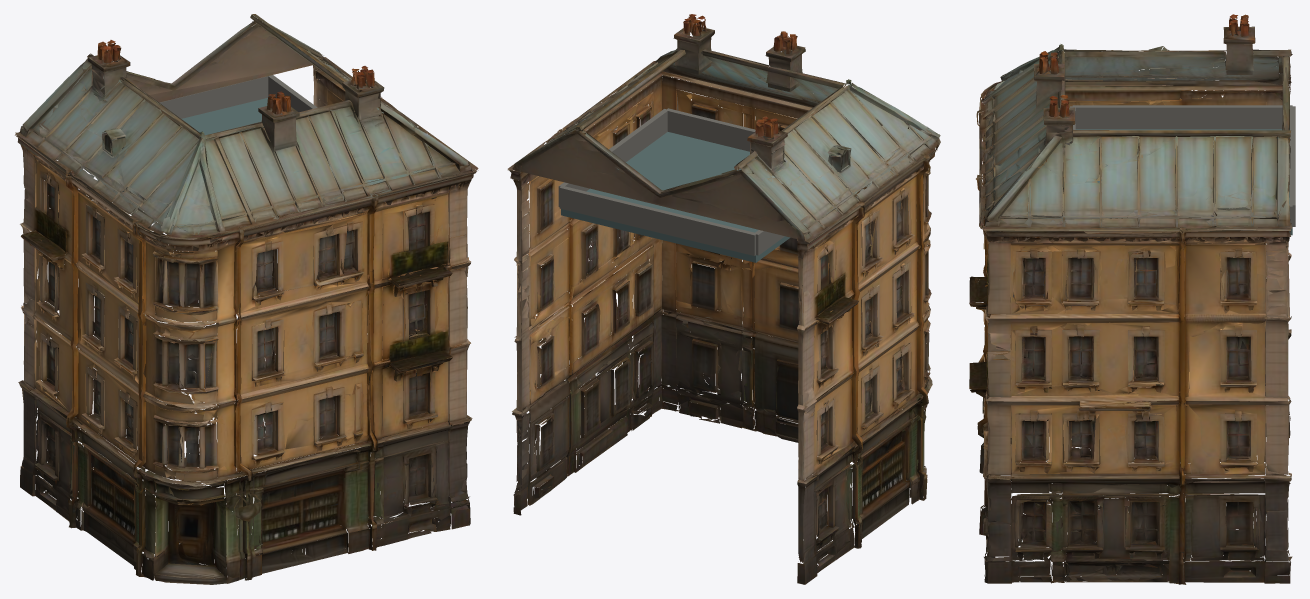
The model's file is ch03_shop_pharmacy_corner.glb.
3 views of the same model, side by side, from view 1: azimuth 30°, elevation 25°; view 2: azimuth 150°, elevation 25°; view 3: azimuth 270°, elevation 25° (orthographic). The views are drawn at different scales.
Visible parts, largest first — view 1: material, courtyard parapet north, roof courtyard floor, courtyard parapet east; view 2: material, roof courtyard floor, courtyard parapet north, courtyard parapet south, courtyard parapet east; view 3: material, courtyard parapet west, courtyard parapet north, roof courtyard floor.
Part boxes in pixels (left/top/right/bottom): material: left=15, top=14, right=478, bottom=584; courtyard parapet north: left=159, top=76, right=268, bottom=118; roof courtyard floor: left=122, top=98, right=267, bottom=228; courtyard parapet east: left=268, top=75, right=317, bottom=117; material: left=507, top=14, right=940, bottom=584; roof courtyard floor: left=561, top=132, right=794, bottom=262; courtyard parapet north: left=559, top=186, right=756, bottom=255; courtyard parapet south: left=667, top=108, right=839, bottom=156; courtyard parapet east: left=558, top=109, right=668, bottom=206; material: left=969, top=14, right=1292, bottom=584; courtyard parapet west: left=1072, top=105, right=1292, bottom=129; courtyard parapet north: left=1290, top=106, right=1295, bottom=226; roof courtyard floor: left=1075, top=129, right=1292, bottom=235.
Bounding box in the file's own units: 0.6589 × 0.8669 × 0.5693.
Materials: 3 (1 with a texture image).
